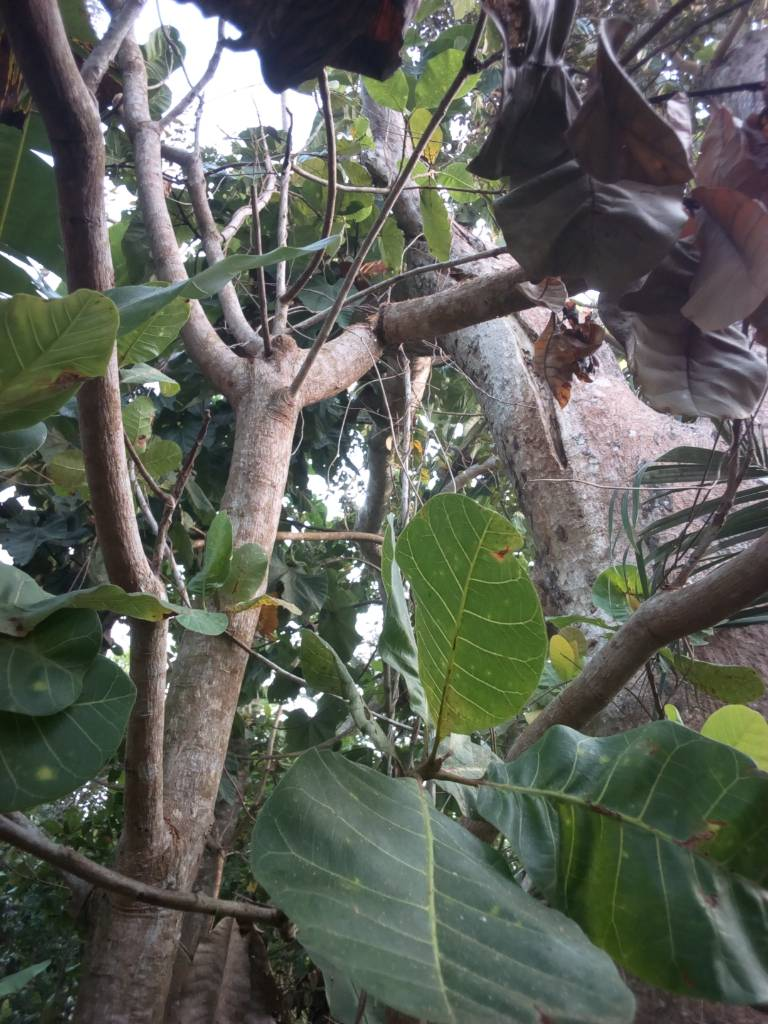Analepse trifasciata: (341, 305, 415, 375)
